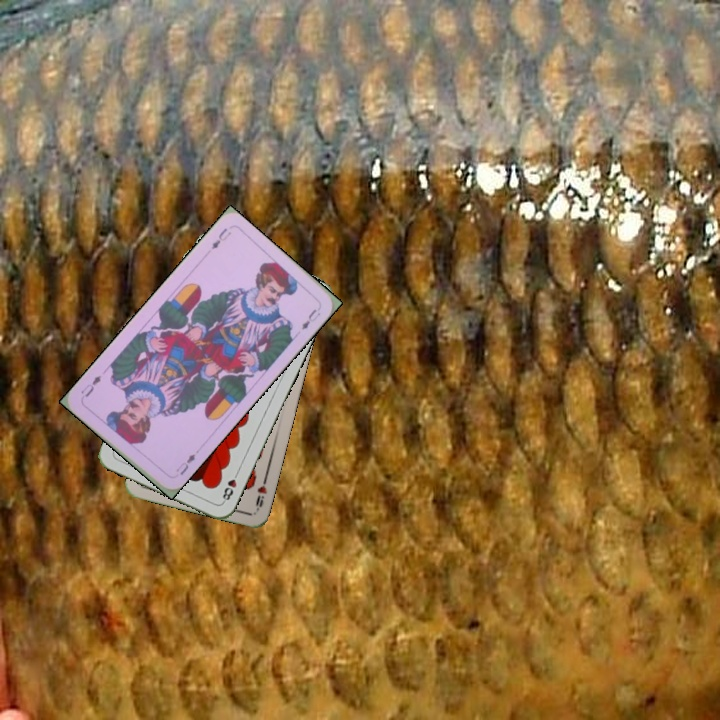EU: (172, 447, 200, 478), (207, 224, 234, 252)
H8: (218, 467, 241, 505)
H9: (251, 472, 270, 513)
